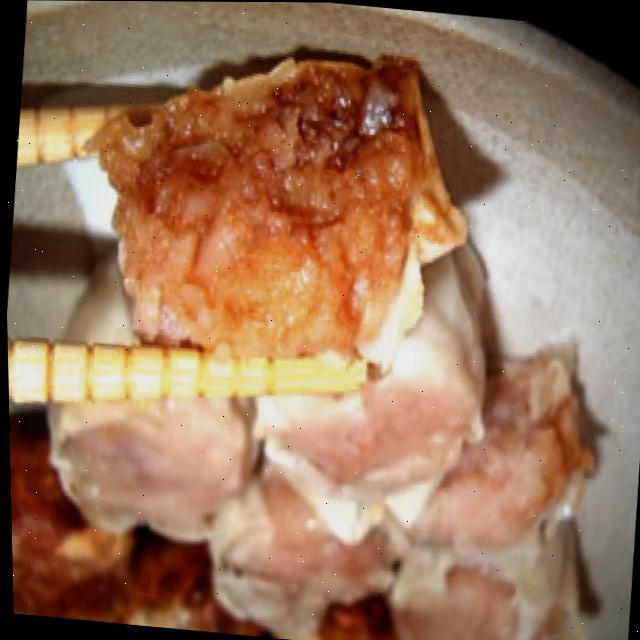带馅早点: (1, 40, 637, 640)
